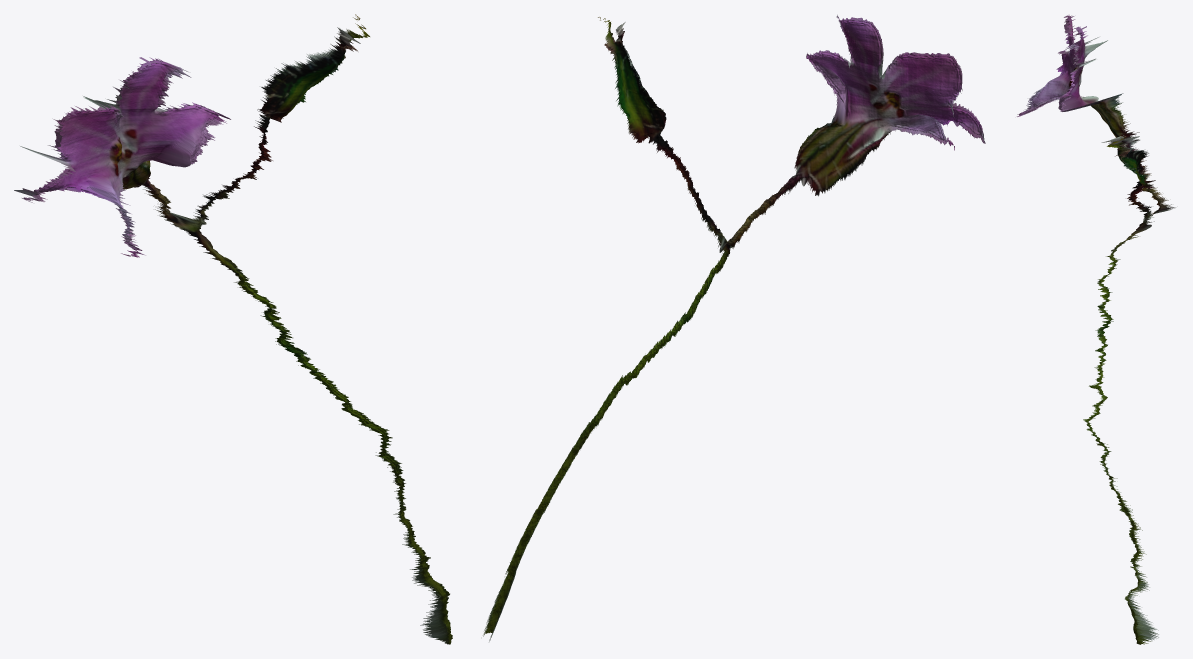
The model's file is blume1.glb.
3 views of the same model, side by side, from view 1: azimuth 30°, elevation 25°; view 2: azimuth 150°, elevation 25°; view 3: azimuth 270°, elevation 25° (orthographic). The views are drawn at different scales.
Parts seen in each view (by area): view 1: Mesh_0; view 2: Mesh_0; view 3: Mesh_0.
Boxes of the visible parts, bbox=[...] form: Mesh_0: bbox=[14, 14, 452, 644]; Mesh_0: bbox=[483, 15, 985, 641]; Mesh_0: bbox=[1017, 15, 1175, 644].
Size of the model in its own units: 0.8467 by 1.18 by 0.3535.
1 material, 1 textured.
